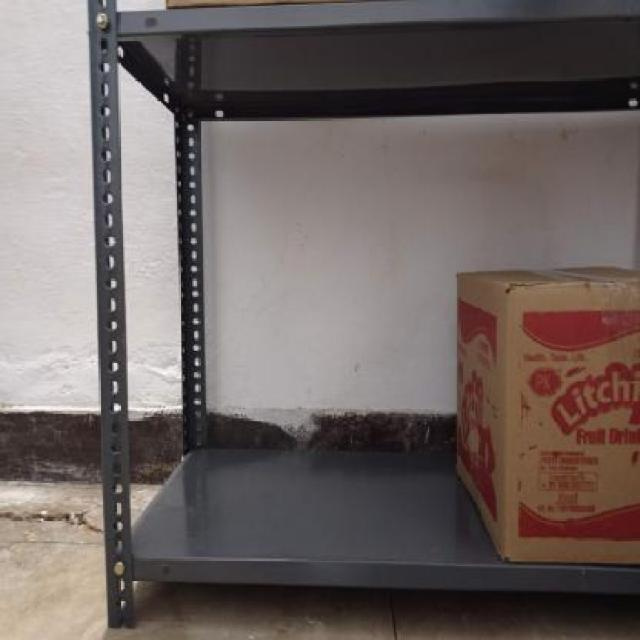box: (509, 282, 640, 561)
